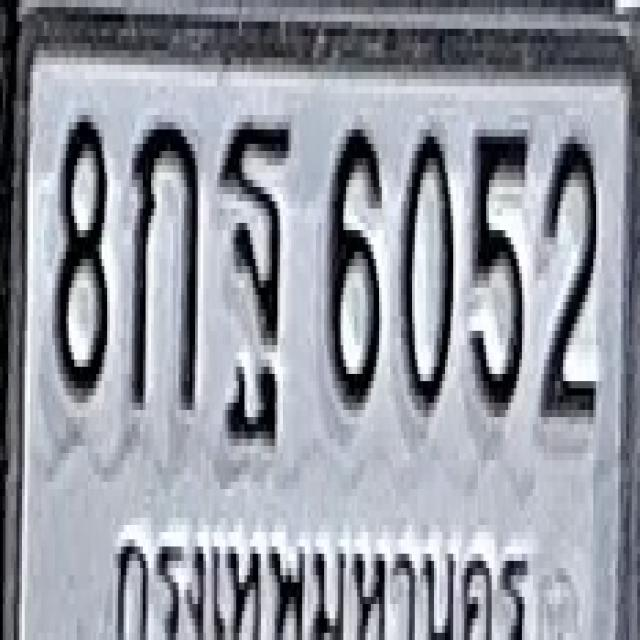0: (398, 126, 454, 413)
2: (538, 130, 596, 417)
5: (470, 126, 527, 413)
6: (326, 122, 380, 403)
8: (52, 108, 107, 395)
A01: (129, 115, 198, 410)
A16: (220, 115, 291, 403)
BKK: (104, 512, 536, 640)
